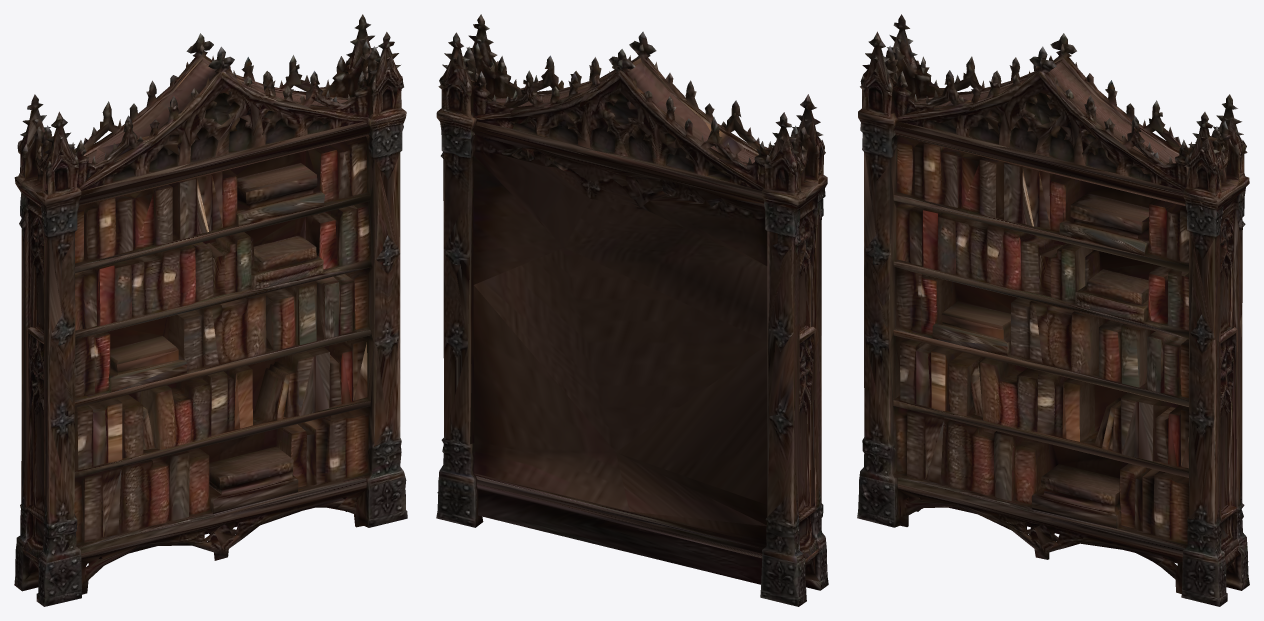
The model's file is shelf_ledgers.glb.
3 views of the same model, side by side, from view 1: azimuth 30°, elevation 25°; view 2: azimuth 150°, elevation 25°; view 3: azimuth 330°, elevation 25° (orthographic).
Parts seen in each view (by area): view 1: shelf_ledgers; view 2: shelf_ledgers; view 3: shelf_ledgers.
Boxes of the visible parts, x1,y1,x2,y2 form: shelf_ledgers: [14, 14, 407, 606]; shelf_ledgers: [436, 14, 828, 606]; shelf_ledgers: [857, 14, 1249, 606].
Size of the model in its own units: 2.9 by 3.9 by 0.42.
Materials: 1 (1 with a texture image).
